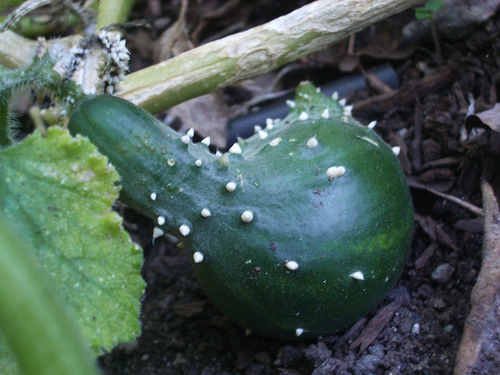cucumber: (68, 95, 417, 343)
